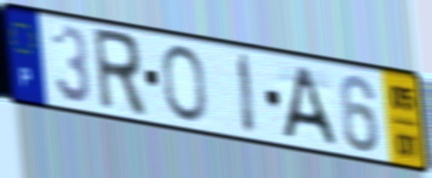3: (48, 22, 92, 107)
6: (337, 71, 380, 154)
A: (279, 63, 340, 150)
I: (236, 49, 259, 140)
O: (159, 42, 210, 126)
R: (89, 25, 150, 121)
